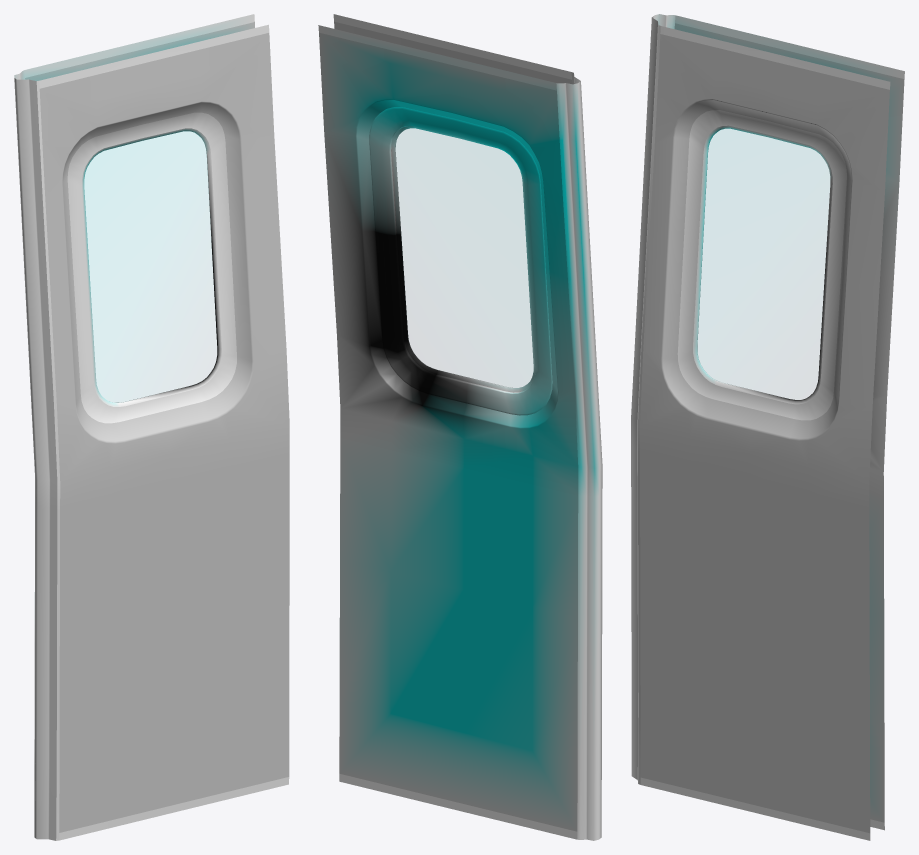
Rendered from SM_door_wall_01.fbx.
3 views of the same model, side by side, from view 1: azimuth 30°, elevation 25°; view 2: azimuth 150°, elevation 25°; view 3: azimuth 330°, elevation 25° (orthographic). The views are drawn at different scales.
Parts seen in each view (by area): view 1: SM_door_wall_01; view 2: SM_door_wall_01; view 3: SM_door_wall_01.
Part boxes in pixels (<box>): SM_door_wall_01: <box>14,14,289,840</box>; SM_door_wall_01: <box>318,14,602,840</box>; SM_door_wall_01: <box>631,14,904,840</box>.
Bounding box in the file's own units: 75.49 × 18.94 × 219.
